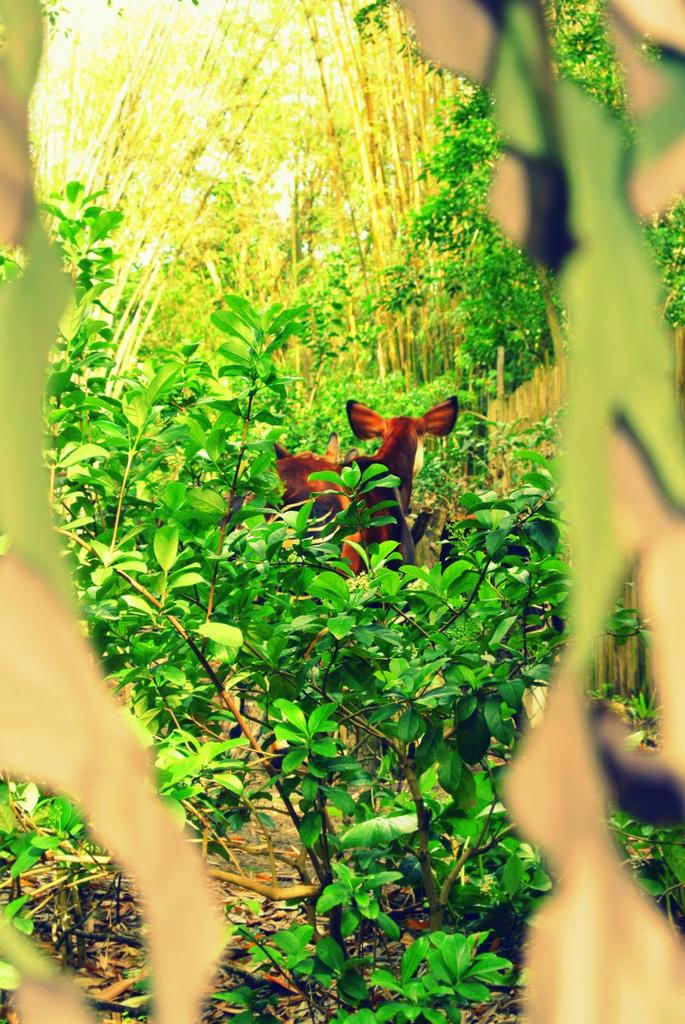Animal: (344, 393, 461, 580), (269, 425, 346, 518)
